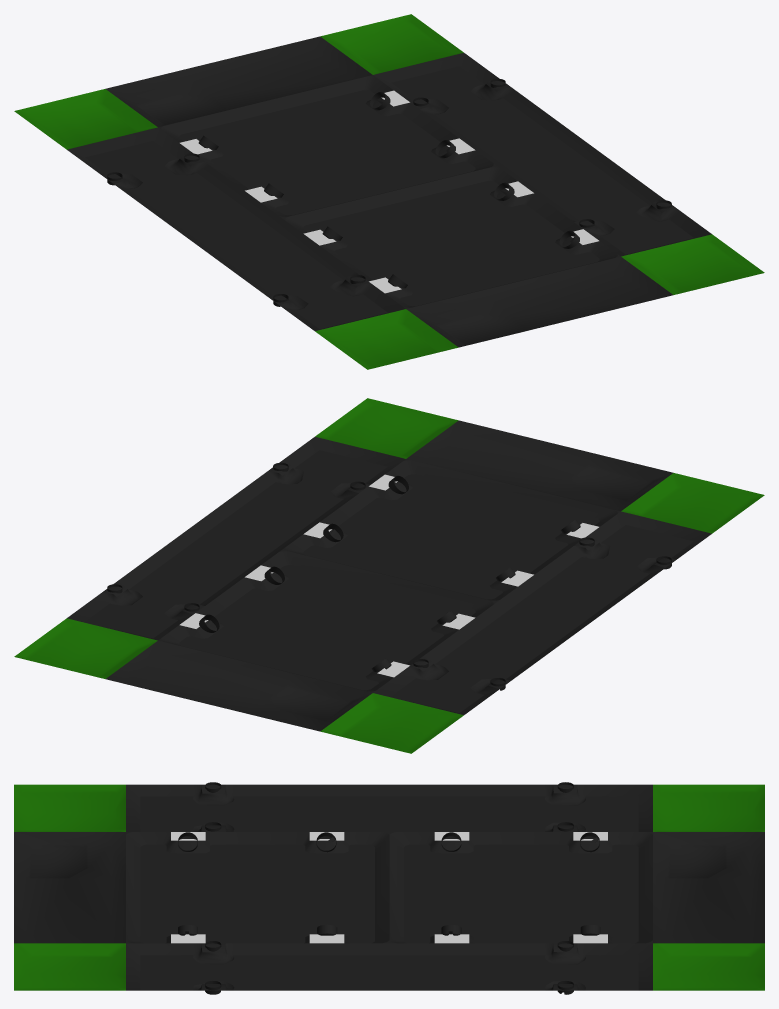
File: Building_B_Staircase_B_Ceiling_B.fbx
3 renders of one model, top to bottom at view 1: azimuth 30°, elevation 25°; view 2: azimuth 150°, elevation 25°; view 3: azimuth 270°, elevation 25°, orthographic. The views are drawn at different scales.
Parts seen in each view (by area): view 1: Geom_Building_B_Staircase_B_Ceiling_B_LOD00; view 2: Geom_Building_B_Staircase_B_Ceiling_B_LOD00; view 3: Geom_Building_B_Staircase_B_Ceiling_B_LOD00.
Part boxes in pixels (x1,y1,x2,y2): Geom_Building_B_Staircase_B_Ceiling_B_LOD00: (14,14,764,369); Geom_Building_B_Staircase_B_Ceiling_B_LOD00: (14,398,764,753); Geom_Building_B_Staircase_B_Ceiling_B_LOD00: (14,782,764,994).
Size of what is drawn, in the model's own units: 740 by 31.55 by 1140.
